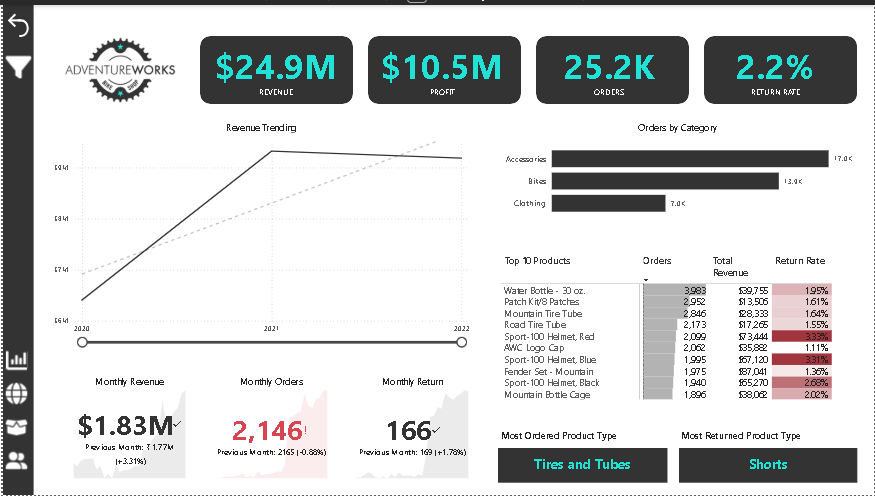

This screenshot's page, from the dashboard's own definition file:
{"tool":"powerbi","page":{"name":"Exec Dashboard","canvas":[1280,720],"ordinal":0},"visuals":[{"type":"card","fields":{"Values":["Measures Table.Total Revenue"]},"box":[280,20,241.7,150],"z":0,"group":"g2"},{"type":"image","title":"AWlogo","box":[69.1,35.3,207.2,120.5],"z":0},{"type":"group","id":"g1","title":"KPI Backgrounds","box":[289.5,45.6,965.6,100],"z":0,"group":"g3"},{"type":"shape","box":[289.5,45.6,224.8,99.9],"z":0,"group":"g1"},{"type":"shape","title":"Left nav background","box":[0,0,45,720],"z":1000},{"type":"group","id":"g2","title":"KPI values","box":[280,20,975,150],"z":1000,"group":"g3"},{"type":"card","fields":{"Values":["Measures Table.Total Profit"]},"box":[524.4,20,241.7,150],"z":1000,"group":"g2"},{"type":"shape","box":[536.4,45.6,224.8,99.9],"z":1000,"group":"g1"},{"type":"group","id":"g3","title":"KPIs","box":[280,20,975,150],"z":2000},{"type":"card","fields":{"Values":["Measures Table.Total Orders"]},"box":[768.9,20,241.7,150],"z":2000,"group":"g2"},{"type":"shape","box":[783.2,45.6,224.8,99.9],"z":2000,"group":"g1"},{"type":"card","fields":{"Values":["Measures Table.Return Rate"]},"box":[1013.3,20,241.7,150],"z":3000,"group":"g2"},{"type":"shape","box":[1030.1,45.6,225,100],"z":3000,"group":"g1"},{"type":"lineChart","title":"Revenue Trending","fields":{"Y":["Measures Table.Total Revenue"],"Category":["Calendar Lookup.Date hierarchy.Year","Calendar Lookup.Date hierarchy.Start of Month","Calendar Lookup.Date hierarchy.Start of Week","Calendar Lookup.Date hierarchy.Date"]},"box":[69.1,170.4,621.6,336.5],"z":3000},{"type":"kpi","title":"Monthly Revenue","fields":{"Indicator":["Measures Table.Total Revenue"],"TrendLine":["Calendar Lookup.Start of Month"],"Goal":["Measures Table.Previous Month Revenue"]},"box":[98.4,543.7,174.9,157.2],"z":4000},{"type":"kpi","title":"Monthly Return","fields":{"TrendLine":["Calendar Lookup.Start of Month"],"Indicator":["Measures Table.Total Returns"],"Goal":["Measures Table.Previous Month Return"]},"box":[514.3,543.7,174.9,157.2],"z":5000},{"type":"kpi","title":"Monthly Orders","fields":{"TrendLine":["Calendar Lookup.Start of Month"],"Indicator":["Measures Table.Total Orders"],"Goal":["Measures Table.Previous Month Orders"]},"box":[306.4,543.7,174.9,157.2],"z":6000},{"type":"barChart","title":"Orders by Category","fields":{"Category":["Product Categories Lookup.CategoryName"],"Y":["Measures Table.Total Orders"]},"box":[726.9,170.3,528.5,152.8],"z":7000},{"type":"pivotTable","fields":{"Rows":["Product Lookup.ProductName"],"Values":["Measures Table.Total Orders","Measures Table.Total Revenue","Measures Table.Return Rate"]},"box":[726.9,362.1,528.5,226.5],"z":8000},{"type":"card","fields":{"Values":["Min(Product Subcategories Lookup.SubcategoryName)"]},"box":[726.9,651.4,249.3,50.9],"z":9000},{"type":"textbox","box":[727.3,618.6,235.1,27.9],"z":10000},{"type":"card","fields":{"Values":["Min(Product Subcategories Lookup.SubcategoryName)"]},"box":[993.8,651.4,261.6,50.9],"z":11000},{"type":"textbox","box":[991.8,618.6,235.1,35.3],"z":12000},{"type":"actionButton","box":[0,0,45.6,60.2],"z":13000},{"type":"actionButton","box":[0,502.5,45.6,39.7],"z":14000},{"type":"actionButton","box":[0,649.5,45.6,39.7],"z":15000},{"type":"actionButton","box":[0,600.5,45.6,39.7],"z":16000},{"type":"actionButton","box":[0,551.5,45.6,39.7],"z":17000},{"type":"actionButton","box":[0,64.7,45.6,54.4],"z":18000}]}

Visuals, with their boxes on the page's 1280x720 design canvas (x1, y1, x2, y2). These are canvas units, not pixel positions in the 875x496 screenshot, which may show the page scaled, cropped or inside an application window:
card - Measures Table.Total Revenue: left=280, top=20, right=522, bottom=170
"AWlogo" image: left=69, top=35, right=276, bottom=156
"KPI Backgrounds" group: left=290, top=46, right=1255, bottom=146
shape: left=290, top=46, right=514, bottom=146
"Left nav background" shape: left=0, top=0, right=45, bottom=720
"KPI values" group: left=280, top=20, right=1255, bottom=170
card - Measures Table.Total Profit: left=524, top=20, right=766, bottom=170
shape: left=536, top=46, right=761, bottom=146
"KPIs" group: left=280, top=20, right=1255, bottom=170
card - Measures Table.Total Orders: left=769, top=20, right=1011, bottom=170
shape: left=783, top=46, right=1008, bottom=146
card - Measures Table.Return Rate: left=1013, top=20, right=1255, bottom=170
shape: left=1030, top=46, right=1255, bottom=146
"Revenue Trending" lineChart: left=69, top=170, right=691, bottom=507
"Monthly Revenue" kpi: left=98, top=544, right=273, bottom=701
"Monthly Return" kpi: left=514, top=544, right=689, bottom=701
"Monthly Orders" kpi: left=306, top=544, right=481, bottom=701
"Orders by Category" barChart: left=727, top=170, right=1255, bottom=323
pivotTable - Product Lookup.ProductName x Measures Table.Total Orders: left=727, top=362, right=1255, bottom=589
card - Min(Product Subcategories Lookup.SubcategoryName): left=727, top=651, right=976, bottom=702
textbox: left=727, top=619, right=962, bottom=646
card - Min(Product Subcategories Lookup.SubcategoryName): left=994, top=651, right=1255, bottom=702
textbox: left=992, top=619, right=1227, bottom=654
actionButton: left=0, top=0, right=46, bottom=60
actionButton: left=0, top=502, right=46, bottom=542
actionButton: left=0, top=650, right=46, bottom=689
actionButton: left=0, top=600, right=46, bottom=640
actionButton: left=0, top=552, right=46, bottom=591
actionButton: left=0, top=65, right=46, bottom=119
